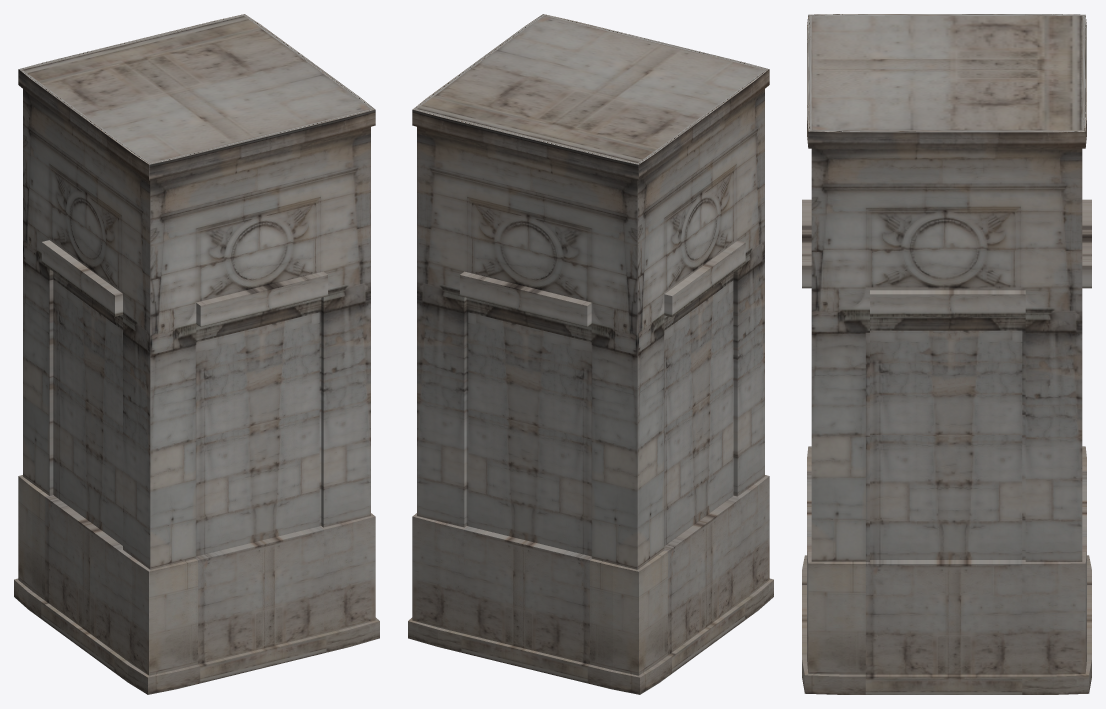
The model's file is Pillar_Standalone.FBX.
3 views of the same model, side by side, from view 1: azimuth 30°, elevation 25°; view 2: azimuth 150°, elevation 25°; view 3: azimuth 270°, elevation 25° (orthographic). The views are drawn at different scales.
Parts seen in each view (by area): view 1: Pillar_Standalone; view 2: Pillar_Standalone; view 3: Pillar_Standalone.
Part boxes in pixels (<box>): Pillar_Standalone: <box>14,14,379,694</box>; Pillar_Standalone: <box>408,14,773,694</box>; Pillar_Standalone: <box>802,14,1091,694</box>.
Size of the model in its own units: 480 by 1024 by 480.
